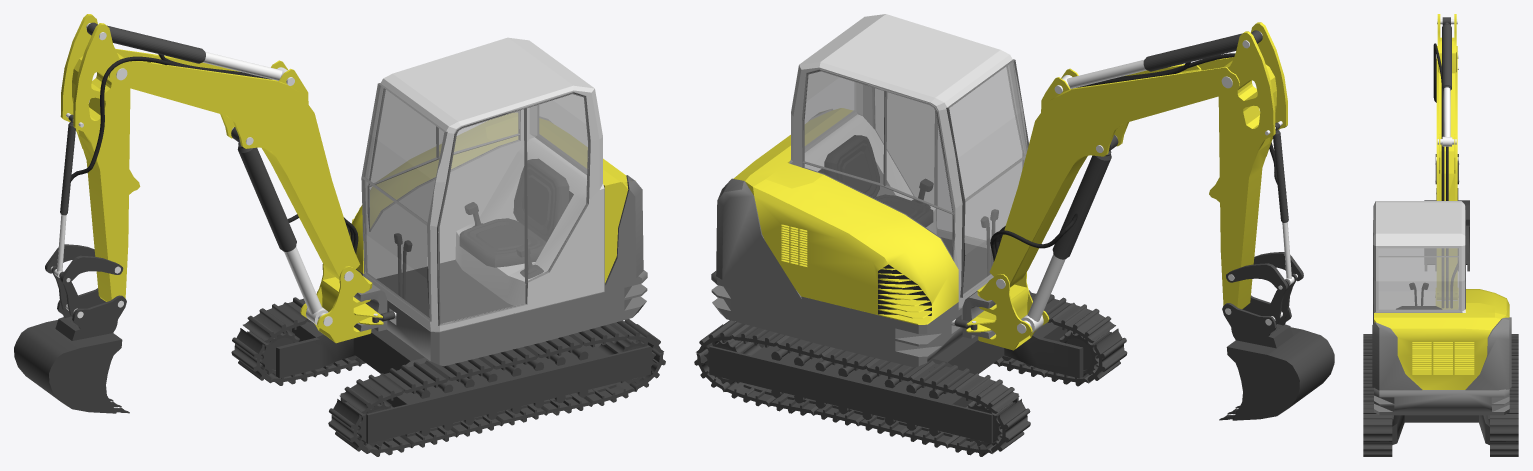
File: mini-excavator-detailed.glb
3 renders of one model, left to right at view 1: azimuth 30°, elevation 25°; view 2: azimuth 150°, elevation 25°; view 3: azimuth 270°, elevation 25°, orthographic. The views are drawn at different scales.
Parts seen in each view (by area): view 1: Cube.024_14, Cube.010_8, Cube.007_6, Cube_0, Cube.001_1, Cube.009_7, Cube.011_9, Cube.004_3, Cube.025_15, Cube.022_12, Cube.002_2, Cube.027_27 (+7 smaller); view 2: Cube.007_6, Cube.011_9, Cube.024_14, Cube.010_8, Cube_0, Cube.001_1, Cube.009_7, Cube.004_3, Cube.022_12, Cube.002_2, Cylinder.015_19, Cube.025_15 (+8 smaller); view 3: Cube.011_9, Cube.010_8, Cube.007_6, Cube.024_14, Cube.009_7, Cube_0, Cylinder.019_21, Cylinder.022_22, Cylinder.010_16, Cube.004_3, Cube.001_1, Cube.022_12 (+1 smaller).
Part boxes in pixels (x1=…): Cube.024_14: x1=362, y1=85, x2=587, y2=323; Cube.010_8: x1=364, y1=37, x2=604, y2=331; Cube.007_6: x1=231, y1=291, x2=665, y2=456; Cube_0: x1=109, y1=48, x2=359, y2=279; Cube.001_1: x1=60, y1=14, x2=140, y2=301; Cube.009_7: x1=354, y1=269, x2=647, y2=366; Cube.011_9: x1=350, y1=112, x2=643, y2=285; Cube.004_3: x1=14, y1=288, x2=129, y2=413; Cube.025_15: x1=455, y1=137, x2=586, y2=305; Cube.022_12: x1=361, y1=83, x2=590, y2=325; Cube.002_2: x1=300, y1=264, x2=383, y2=343; Cube.027_27: x1=513, y1=158, x2=569, y2=241; Cube.007_6: x1=694, y1=290, x2=1127, y2=456; Cube.011_9: x1=716, y1=108, x2=958, y2=324; Cube.024_14: x1=804, y1=61, x2=1027, y2=296; Cube.010_8: x1=789, y1=14, x2=1026, y2=307; Cube_0: x1=989, y1=57, x2=1239, y2=287; Cube.001_1: x1=1209, y1=22, x2=1287, y2=309; Cube.009_7: x1=711, y1=271, x2=995, y2=367; Cube.004_3: x1=1219, y1=295, x2=1334, y2=420; Cube.022_12: x1=802, y1=59, x2=1028, y2=297; Cube.002_2: x1=966, y1=272, x2=1049, y2=350; Cylinder.015_19: x1=990, y1=135, x2=1118, y2=261; Cube.025_15: x1=804, y1=114, x2=936, y2=234; Cube.011_9: x1=1372, y1=289, x2=1511, y2=390; Cube.010_8: x1=1374, y1=201, x2=1464, y2=312; Cube.007_6: x1=1363, y1=334, x2=1518, y2=456; Cube.024_14: x1=1378, y1=248, x2=1458, y2=309; Cube.009_7: x1=1374, y1=388, x2=1509, y2=415; Cube_0: x1=1436, y1=46, x2=1457, y2=299; Cylinder.019_21: x1=1442, y1=17, x2=1451, y2=307; Cylinder.022_22: x1=1433, y1=43, x2=1444, y2=307; Cylinder.010_16: x1=1437, y1=87, x2=1456, y2=146; Cube.004_3: x1=1424, y1=188, x2=1469, y2=271; Cube.001_1: x1=1437, y1=14, x2=1456, y2=73; Cube.022_12: x1=1373, y1=205, x2=1465, y2=323.
Size of the model in its own units: 4.42 by 3.32 by 1.6.
